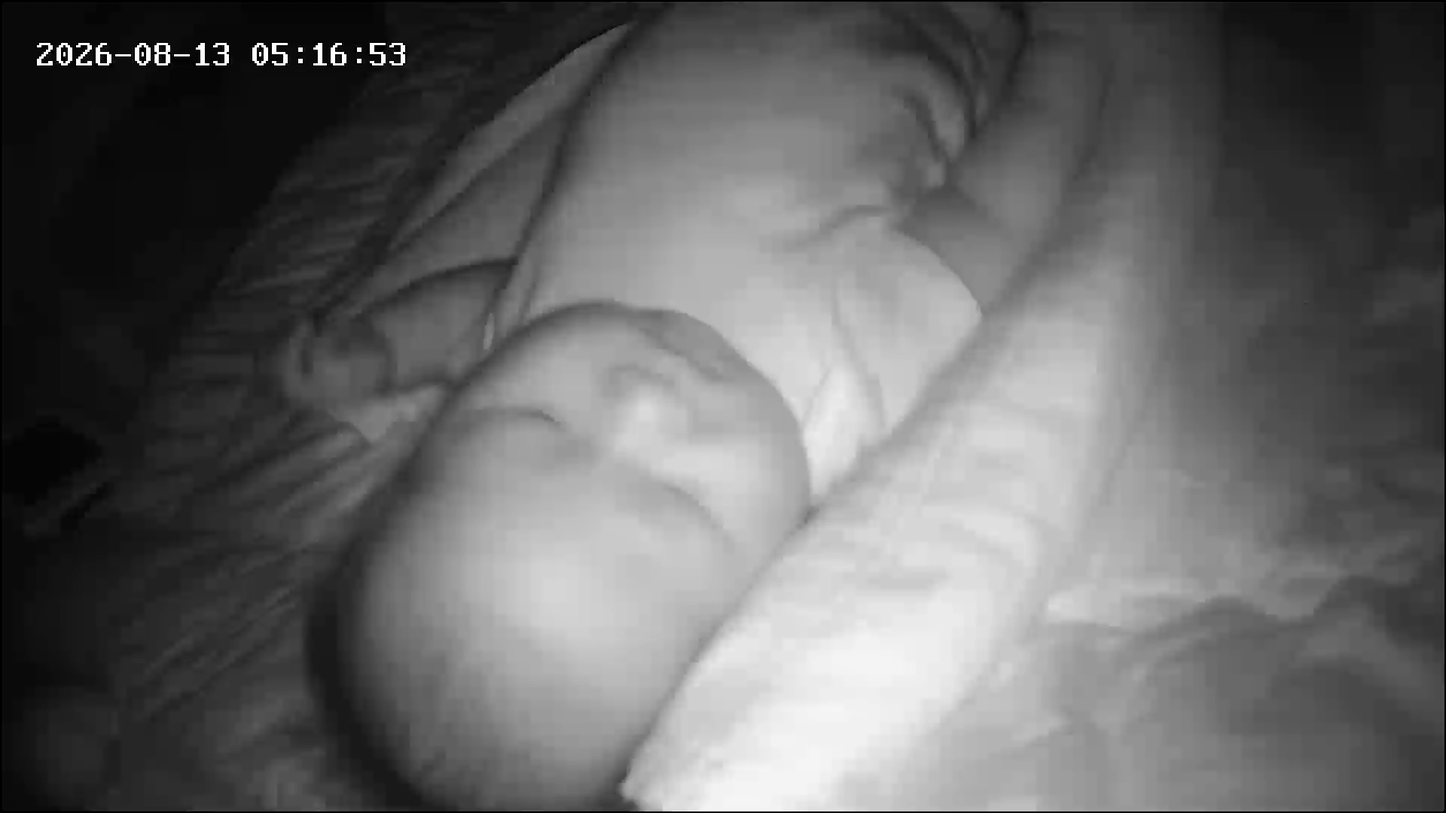baby: (271, 1, 1055, 809)
baby_face: (299, 285, 833, 810)
